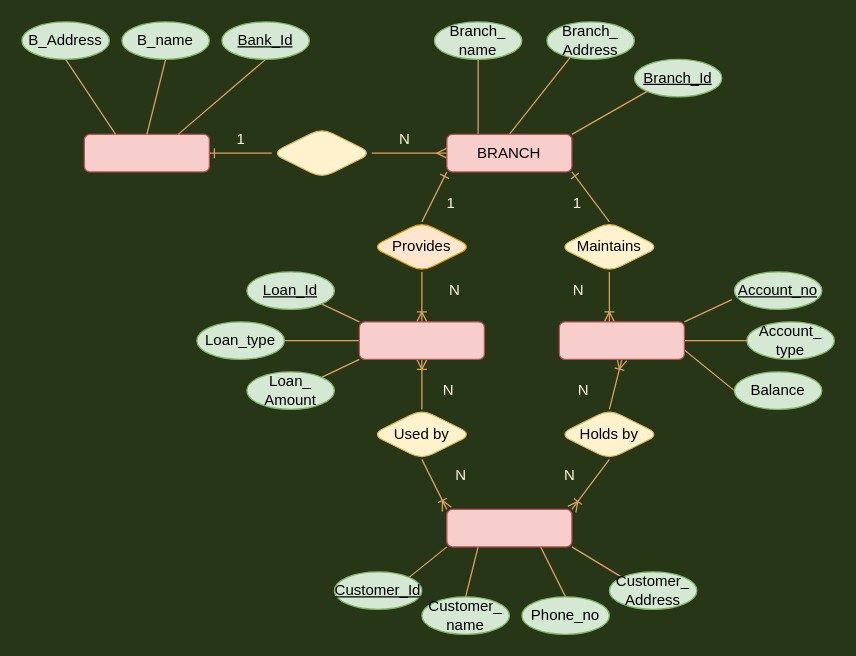
Image size: 856x656. Some labels were removed from this diagram. Each missing label, with the centre of its shape:
"Accounts" belongs at point 621,340.
"BANK" belongs at point 146,152.
"CUSTOMER" belongs at point 509,527.
"Has" belongs at point 321,152.
"Loan" belongs at point 421,340.
